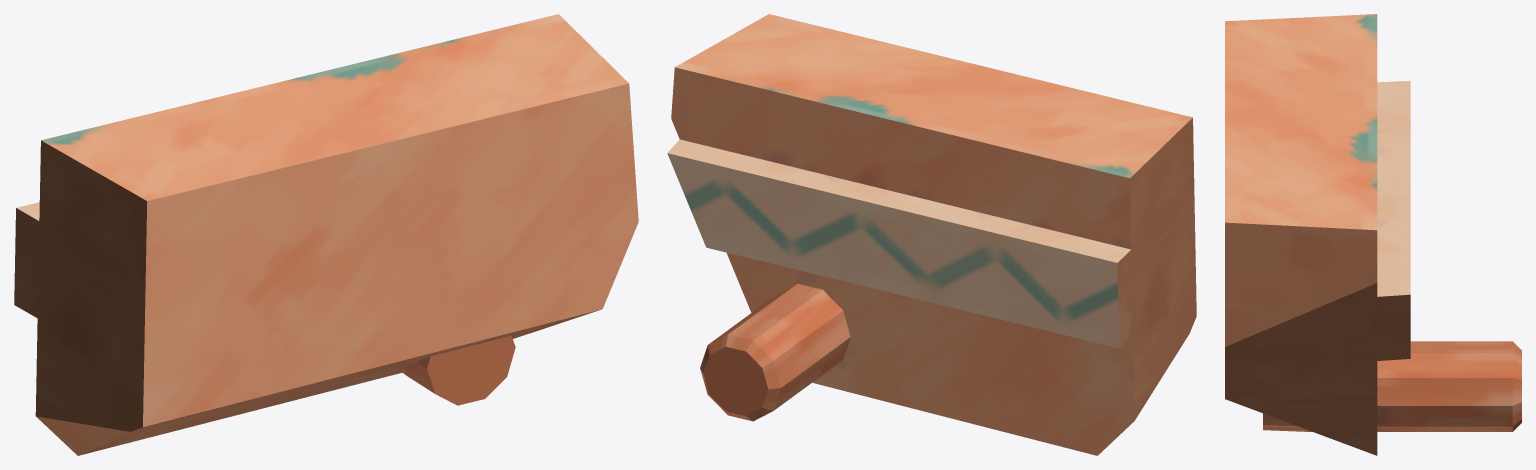
Rendered from wall2_window_s05.fbx.
The picture shows the model from 3 angles, left to right: view 1: azimuth 30°, elevation 25°; view 2: azimuth 150°, elevation 25°; view 3: azimuth 270°, elevation 25°; orthographic projection. The views are drawn at different scales.
Parts seen in each view (by area): view 1: wall2_window_s05; view 2: wall2_window_s05; view 3: wall2_window_s05.
Part boxes in pixels (x1,y1,x2,y2): wall2_window_s05: [14, 14, 638, 455]; wall2_window_s05: [667, 14, 1196, 455]; wall2_window_s05: [1225, 14, 1521, 455].
Bounding box in the file's own units: 3.44 × 2.01 × 1.95.
